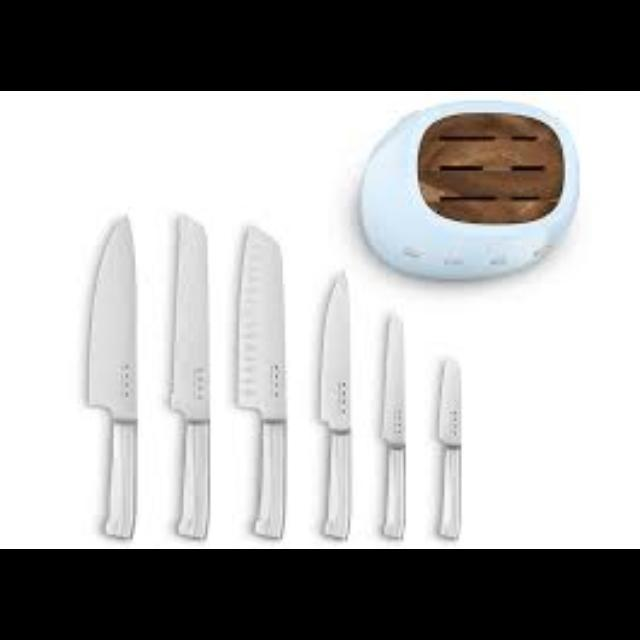knife: (84, 212, 138, 538), (235, 225, 288, 538), (170, 212, 210, 538), (318, 270, 349, 540), (379, 314, 405, 540), (435, 356, 461, 540)
